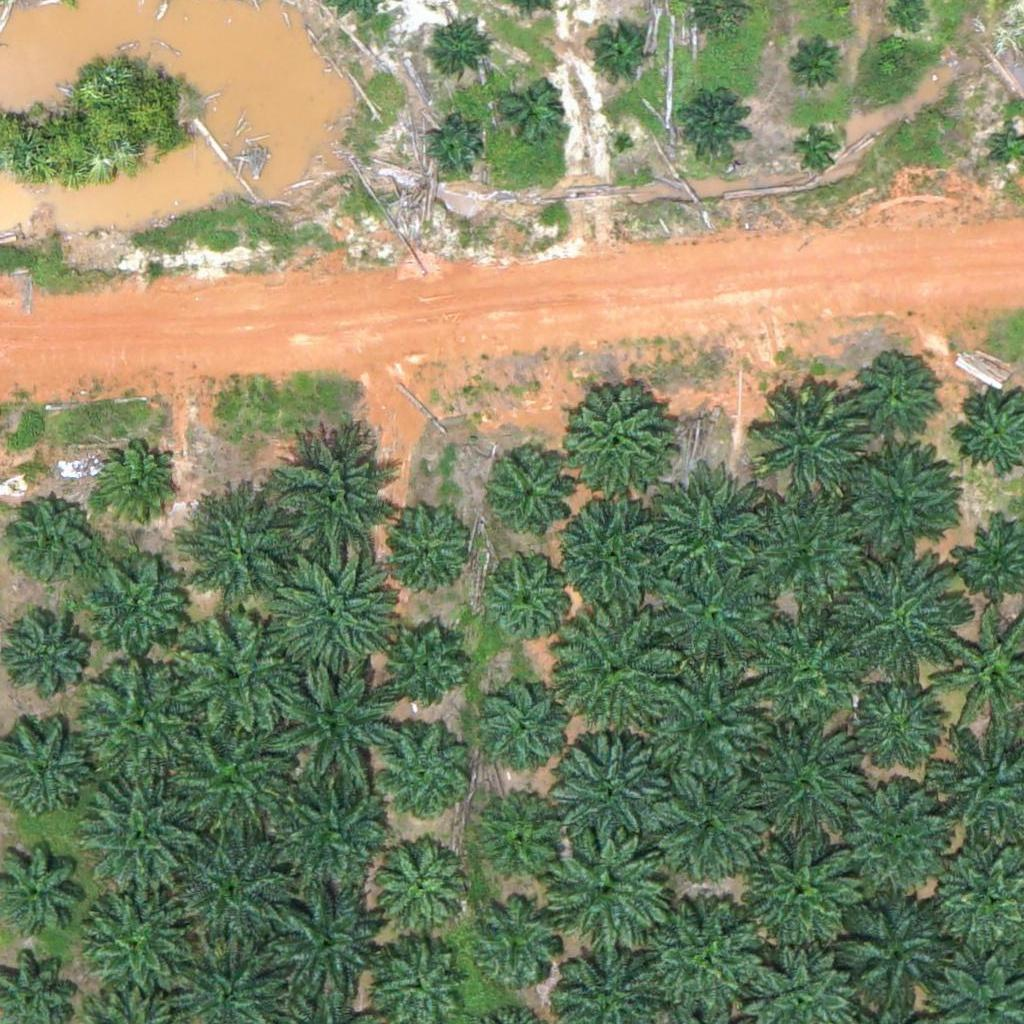Kelapa_Sawit: (750, 378, 875, 504), (742, 486, 867, 612), (747, 614, 872, 740), (747, 726, 872, 852), (741, 836, 866, 962), (641, 896, 766, 1022), (648, 663, 773, 789), (653, 555, 778, 681), (647, 475, 772, 601), (551, 495, 676, 621), (550, 724, 675, 850), (546, 829, 671, 955), (260, 878, 385, 1004), (273, 428, 398, 554), (268, 549, 393, 675), (269, 661, 394, 787), (273, 776, 398, 902), (182, 484, 307, 610), (177, 609, 302, 735), (170, 712, 295, 838), (171, 825, 296, 951), (79, 658, 204, 784), (832, 557, 957, 683), (832, 783, 957, 909), (829, 890, 954, 1016), (645, 766, 770, 891), (562, 606, 687, 731), (836, 436, 961, 561), (556, 381, 669, 495), (81, 875, 193, 988), (81, 774, 193, 887), (374, 726, 474, 827), (369, 836, 469, 937), (89, 556, 189, 657), (376, 497, 476, 597), (470, 895, 558, 983), (481, 676, 569, 764), (11, 497, 99, 585), (857, 682, 945, 770), (481, 794, 568, 882), (488, 553, 575, 641), (487, 454, 574, 542), (381, 626, 468, 714), (91, 440, 178, 528), (5, 616, 92, 704), (854, 359, 941, 447), (675, 86, 750, 162), (489, 73, 564, 149), (422, 21, 485, 84), (589, 22, 652, 85), (421, 118, 484, 181), (788, 43, 838, 93), (794, 124, 844, 174)
